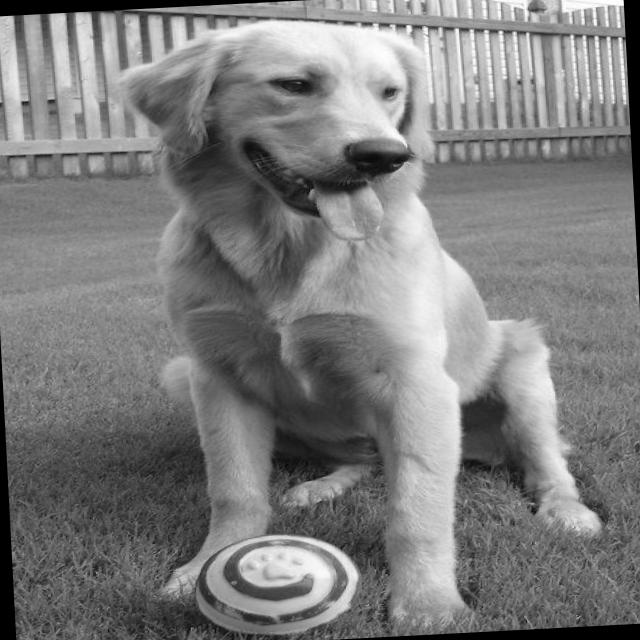sitting: (98, 0, 618, 640)
